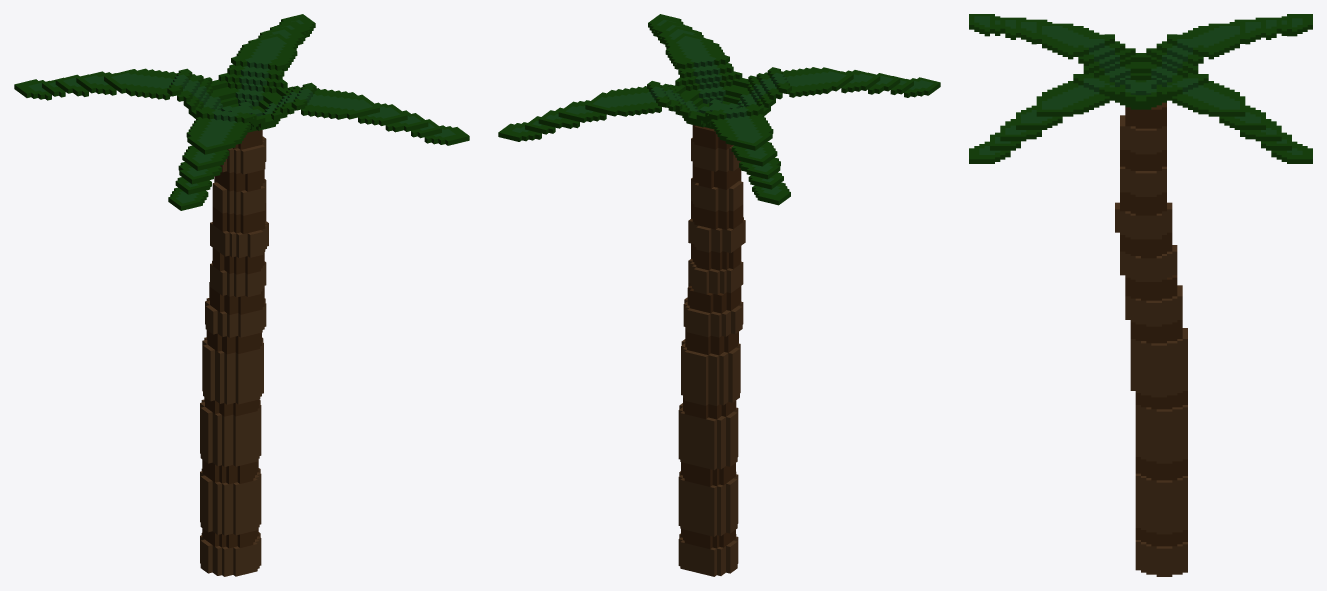
The model's file is PalmTree1.obj.
The picture shows the model from 3 angles, left to right: view 1: azimuth 30°, elevation 25°; view 2: azimuth 150°, elevation 25°; view 3: azimuth 270°, elevation 25°; orthographic projection. The views are drawn at different scales.
Size of the model in its own units: 6.6 by 10.6 by 6.6.
1 material, 1 textured.
